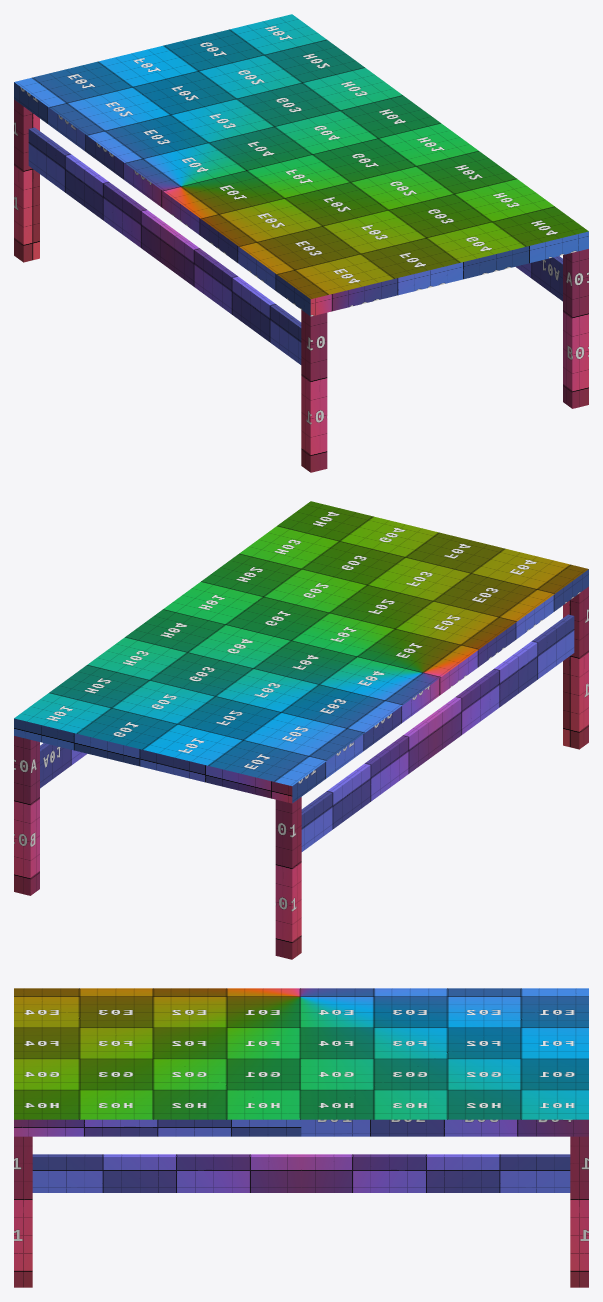
File: deadtable2_low.fbx
The picture shows the model from 3 angles, top to bottom: view 1: azimuth 30°, elevation 25°; view 2: azimuth 150°, elevation 25°; view 3: azimuth 270°, elevation 25°; orthographic projection. The views are drawn at different scales.
Parts seen in each view (by area): view 1: deadtable_low; view 2: deadtable_low; view 3: deadtable_low.
Boxes of the visible parts, <box> form: deadtable_low: <box>14,14,588,472</box>; deadtable_low: <box>14,501,588,959</box>; deadtable_low: <box>14,988,588,1287</box>.
Size of the model in its own units: 148 by 88.39 by 274.
